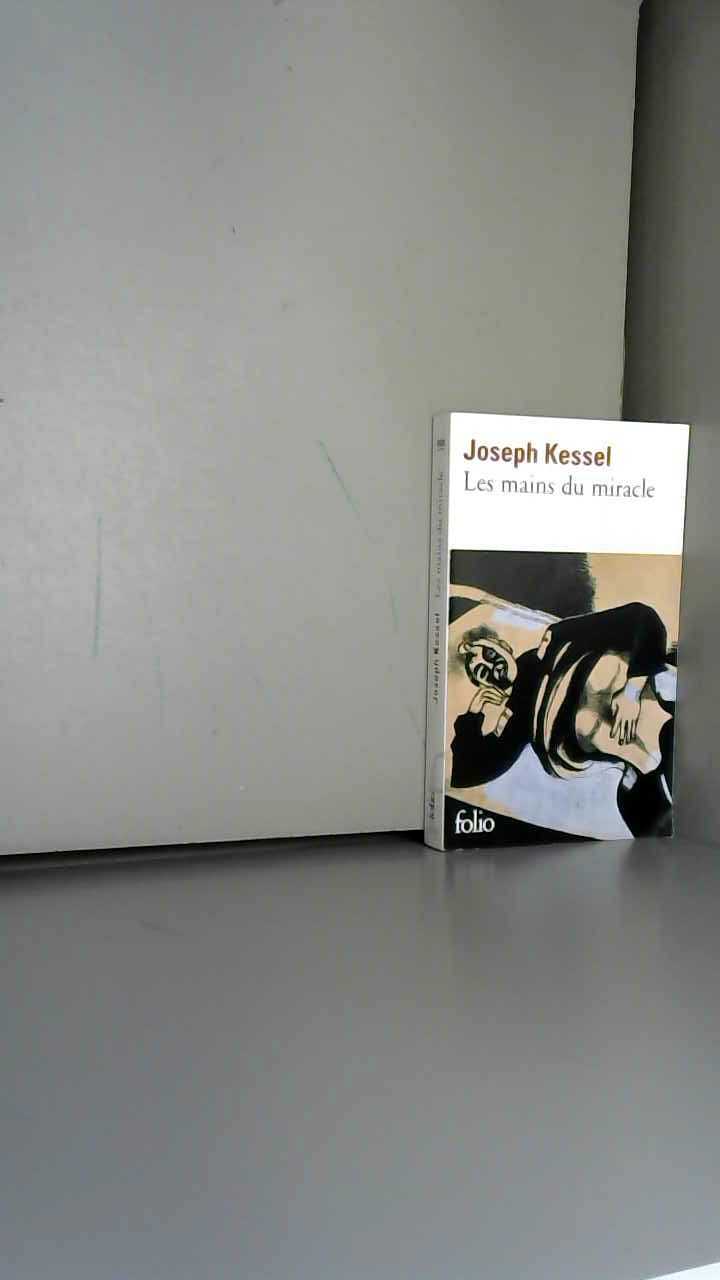book: (410, 380, 715, 896)
